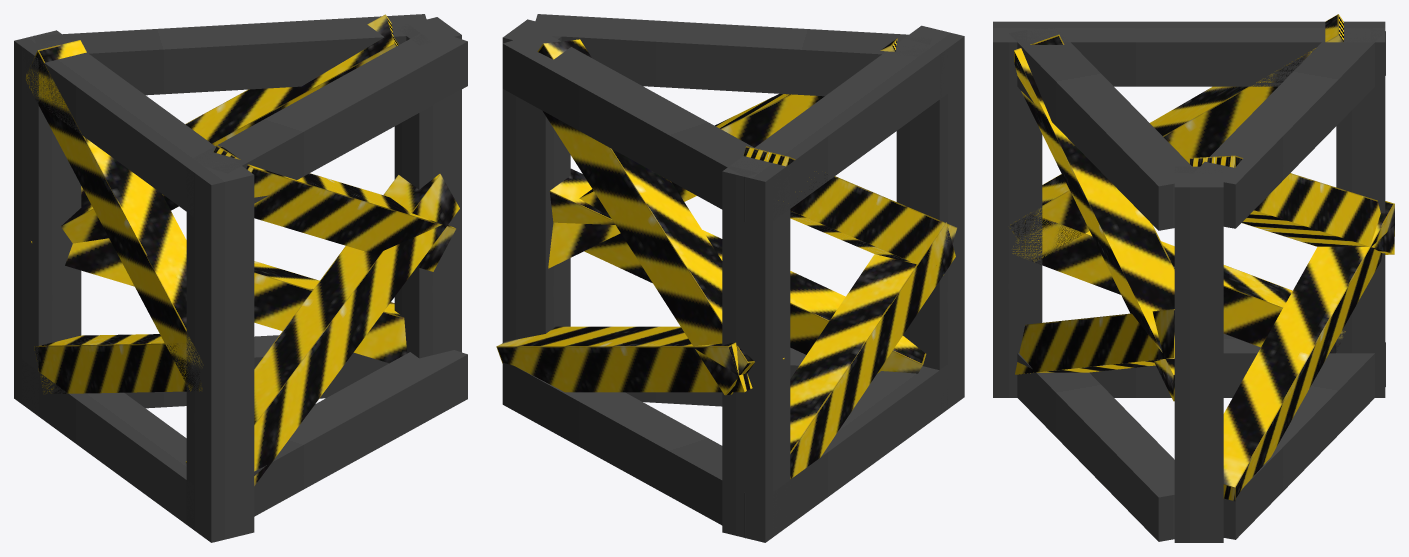
File: buildsupport.obj
3 renders of one model, left to right at view 1: azimuth 30°, elevation 25°; view 2: azimuth 150°, elevation 25°; view 3: azimuth 270°, elevation 25°, orthographic.
Parts seen in each view (by area): view 1: cube; view 2: cube; view 3: cube.
Part boxes in pixels (x1,y1,x2,y2): cube: (14,14,467,542); cube: (496,14,964,542); cube: (993,14,1394,542).
Size of the model in its own units: 1 by 1.03 by 1.02.
